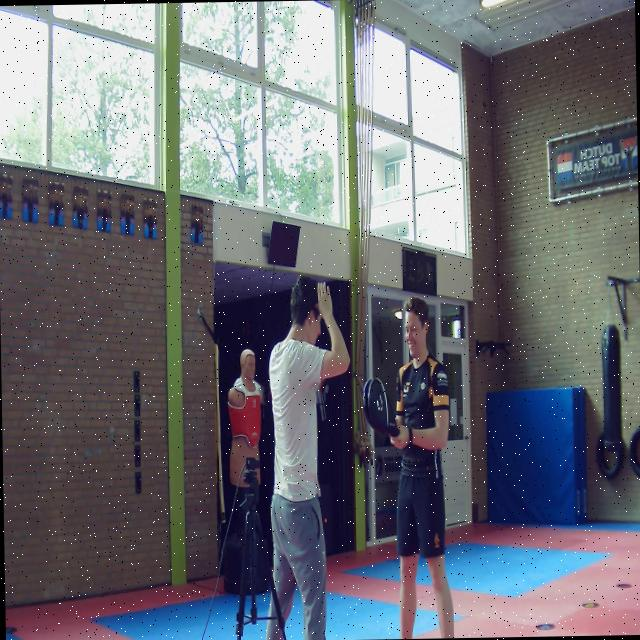paddle: (362, 376, 399, 436)
